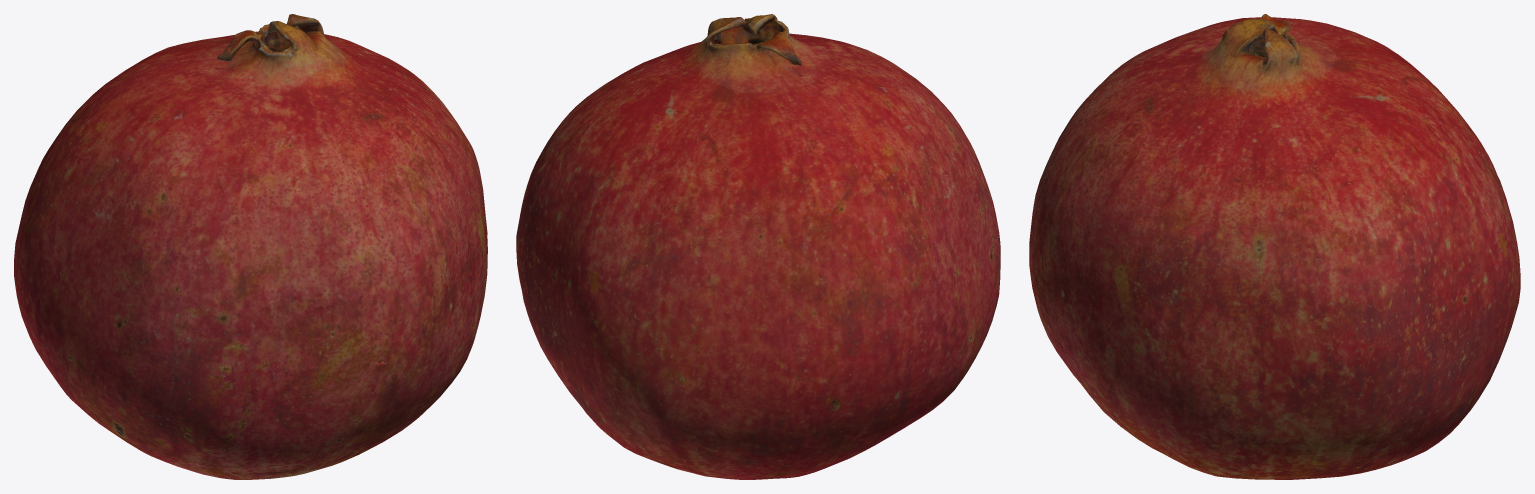
File: food_pomegranate_01_4k.fbx
3 views of the same model, side by side, from view 1: azimuth 30°, elevation 25°; view 2: azimuth 150°, elevation 25°; view 3: azimuth 270°, elevation 25° (orthographic). The views are drawn at different scales.
Parts seen in each view (by area): view 1: food_pomegranate_01; view 2: food_pomegranate_01; view 3: food_pomegranate_01.
Part boxes in pixels (box(x1,y1,x2,y2)): food_pomegranate_01: box(14, 14, 487, 479); food_pomegranate_01: box(516, 14, 1000, 479); food_pomegranate_01: box(1029, 14, 1520, 479).
Bounding box in the file's own units: 11.43 × 11.5 × 11.54.
